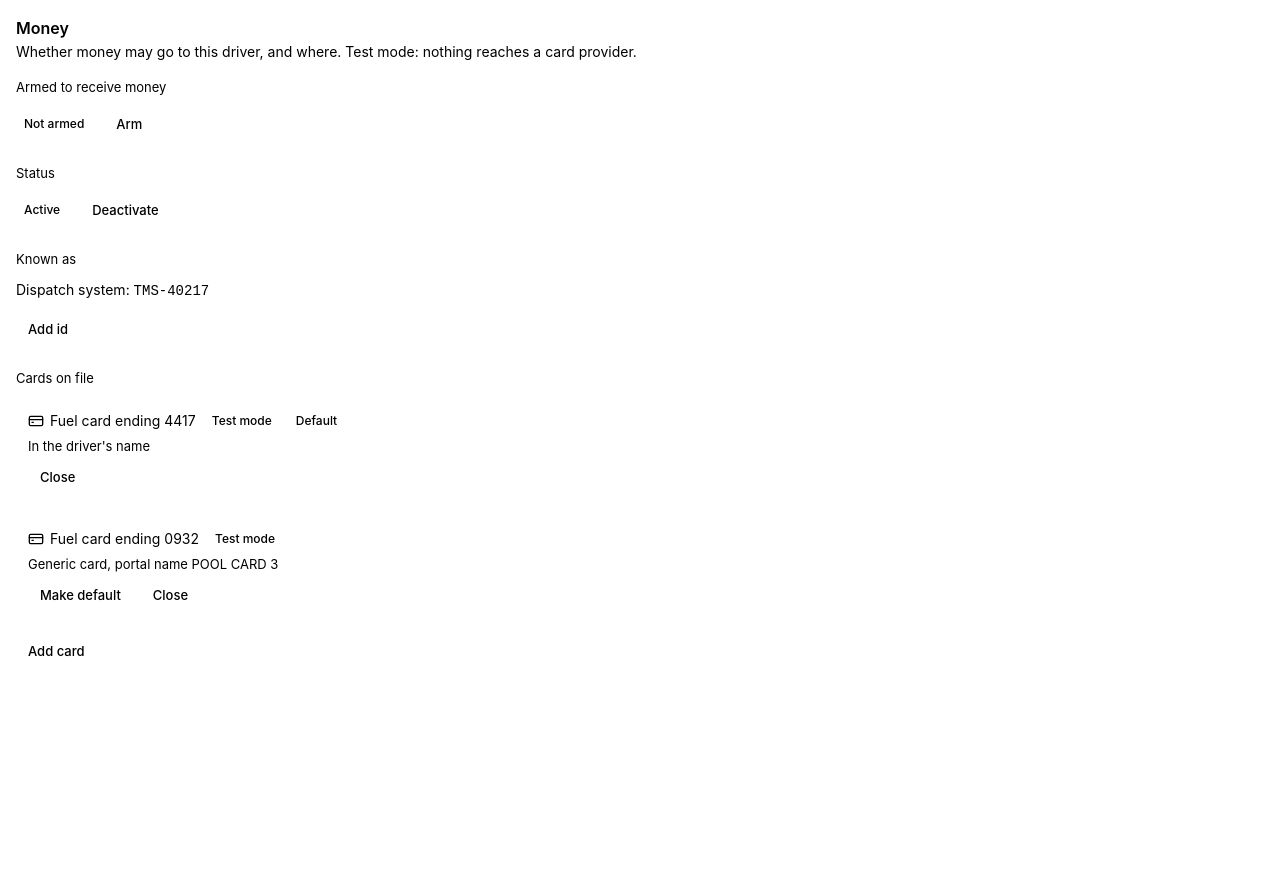
DriverMoneyPanel › shows a status refusal as its own fixed sentence
The image size is (1280, 892).
Step 1. Click the button "Deactivate" → (125, 210), box x1=80 y1=194 x2=171 y2=226
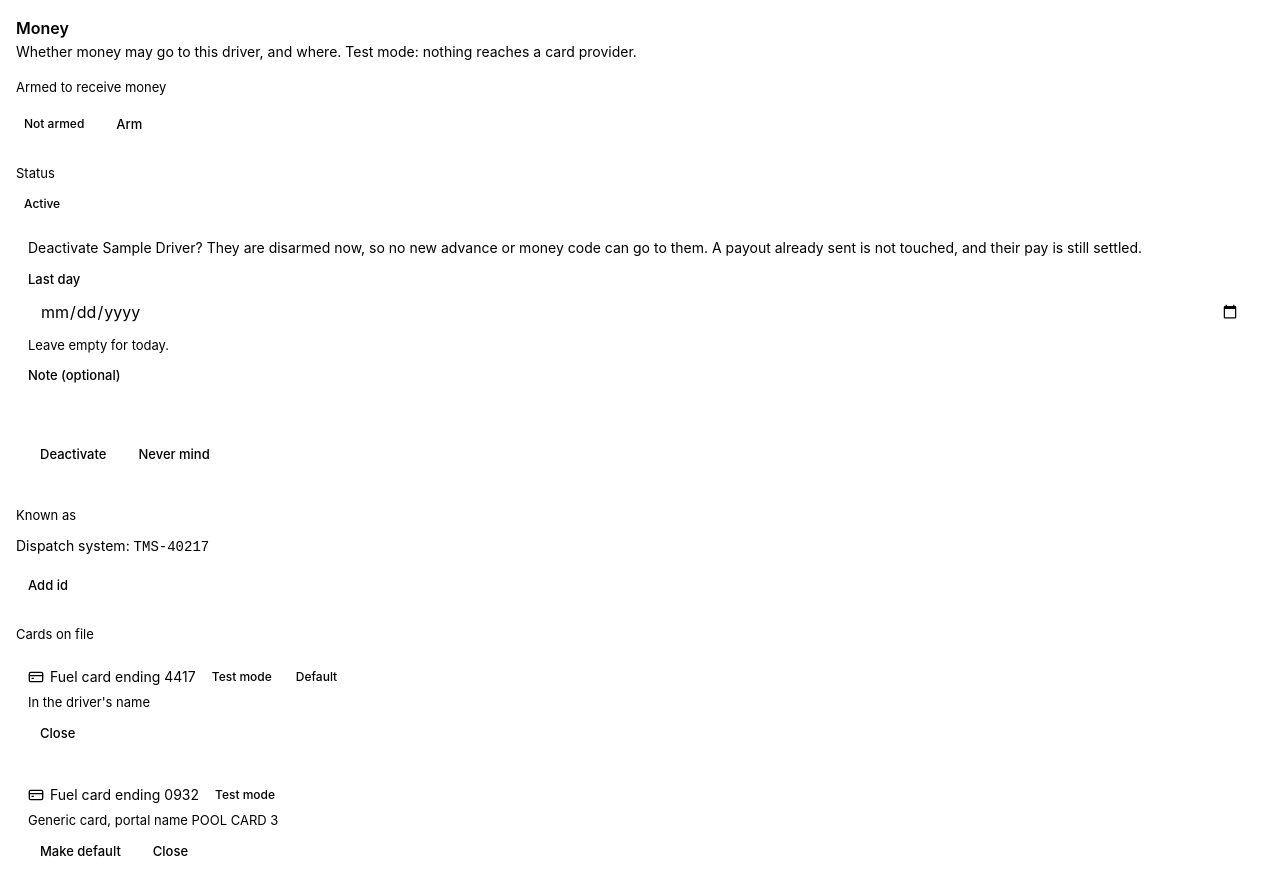
Step 2. Click the button "Deactivate" → (73, 454), box x1=28 y1=438 x2=118 y2=470
(page scrolled)
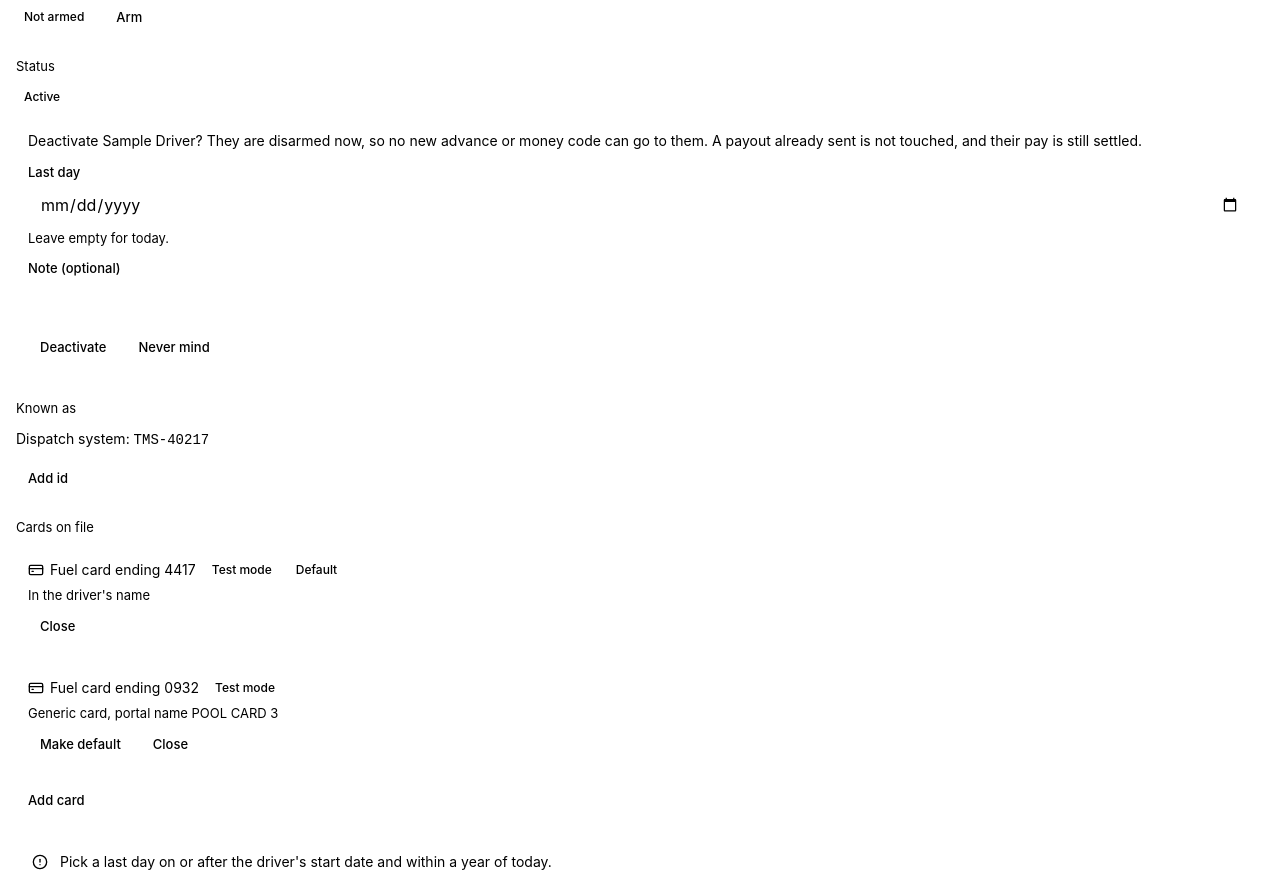
Result: the text "Pick a last day on or after the driver's start date and within a year of today." is shown at x1=60 y1=853 x2=552 y2=870
